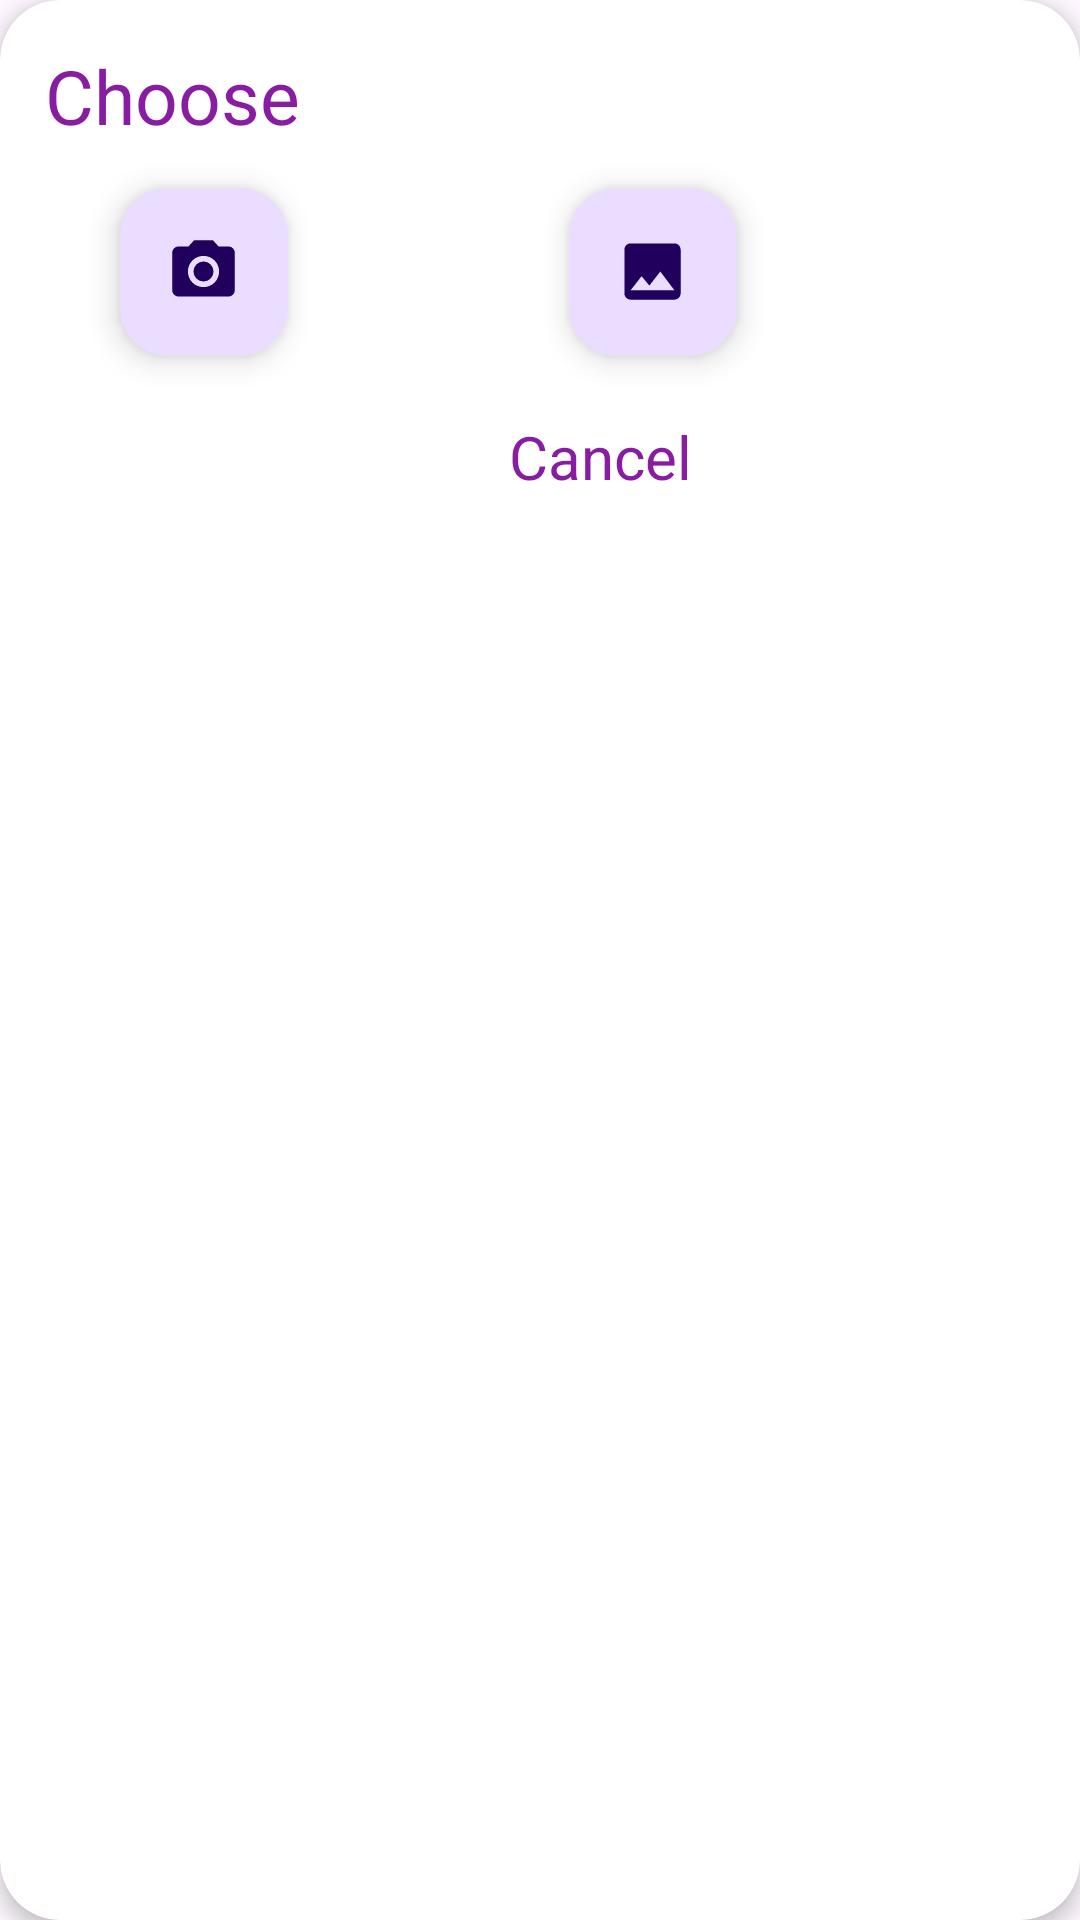

Icon click points for this 1080 x 1920 phone screenshot, format (x,y):
insert photo: (652,271)
photo camera: (203,268)
